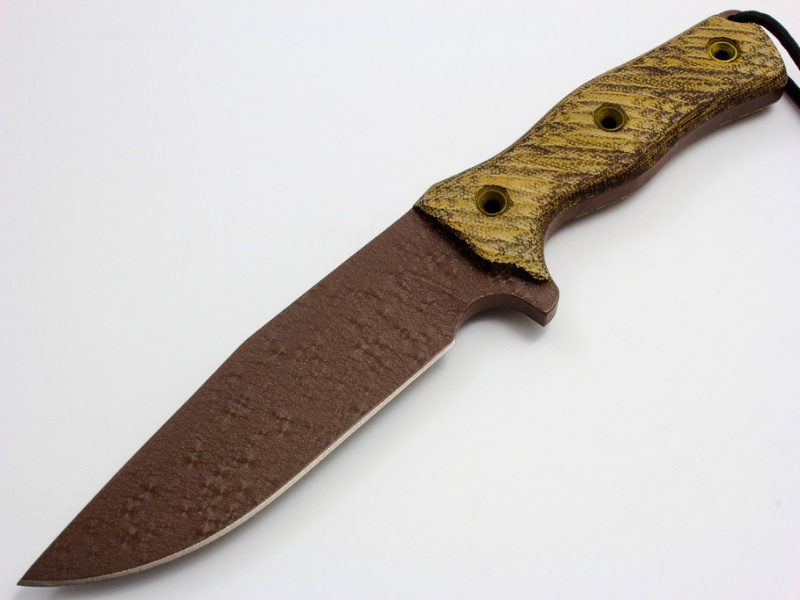knife: (14, 11, 789, 589)
